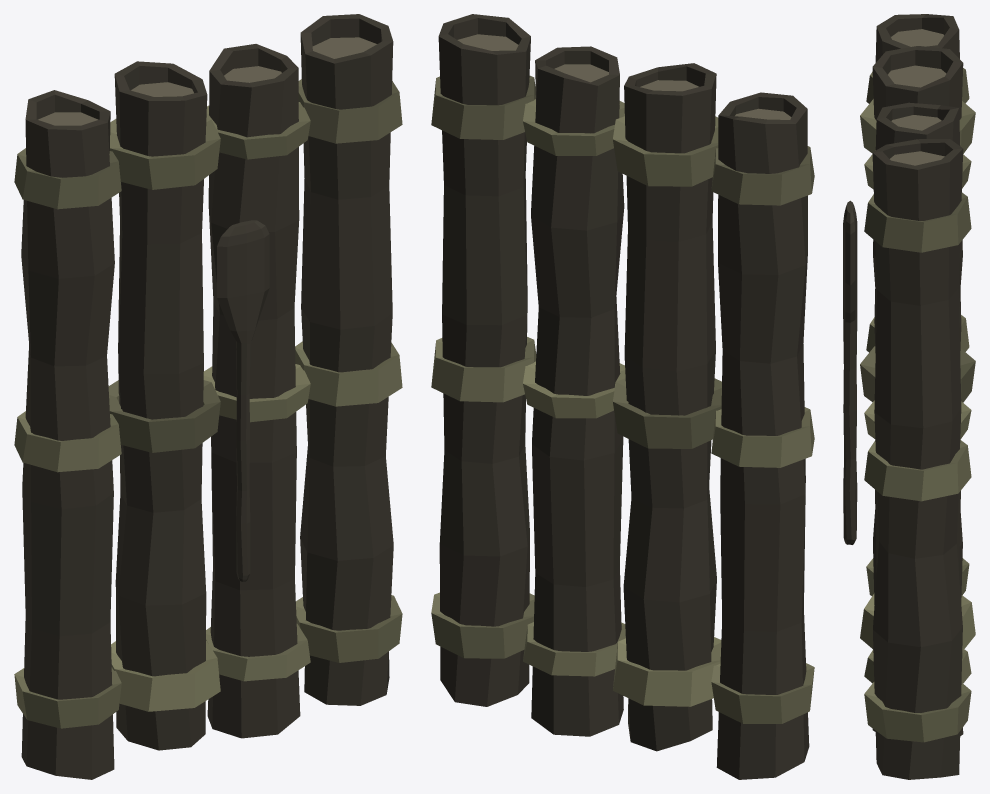
Rendered from CraftableItems.fbx.
The picture shows the model from 3 angles, left to right: view 1: azimuth 30°, elevation 25°; view 2: azimuth 150°, elevation 25°; view 3: azimuth 270°, elevation 25°; orthographic projection. The views are drawn at different scales.
Parts seen in each view (by area): view 1: mesh_raft, mesh_paddle; view 2: mesh_raft; view 3: mesh_raft, mesh_paddle.
Part boxes in pixels (x1,y1,x2,y2): mesh_raft: (14,14,402,779); mesh_paddle: (217,220,269,581); mesh_raft: (431,14,814,779); mesh_raft: (860,14,975,779); mesh_paddle: (843,200,857,544).
Bounding box in the file's own units: 242 × 410 × 78.47.
